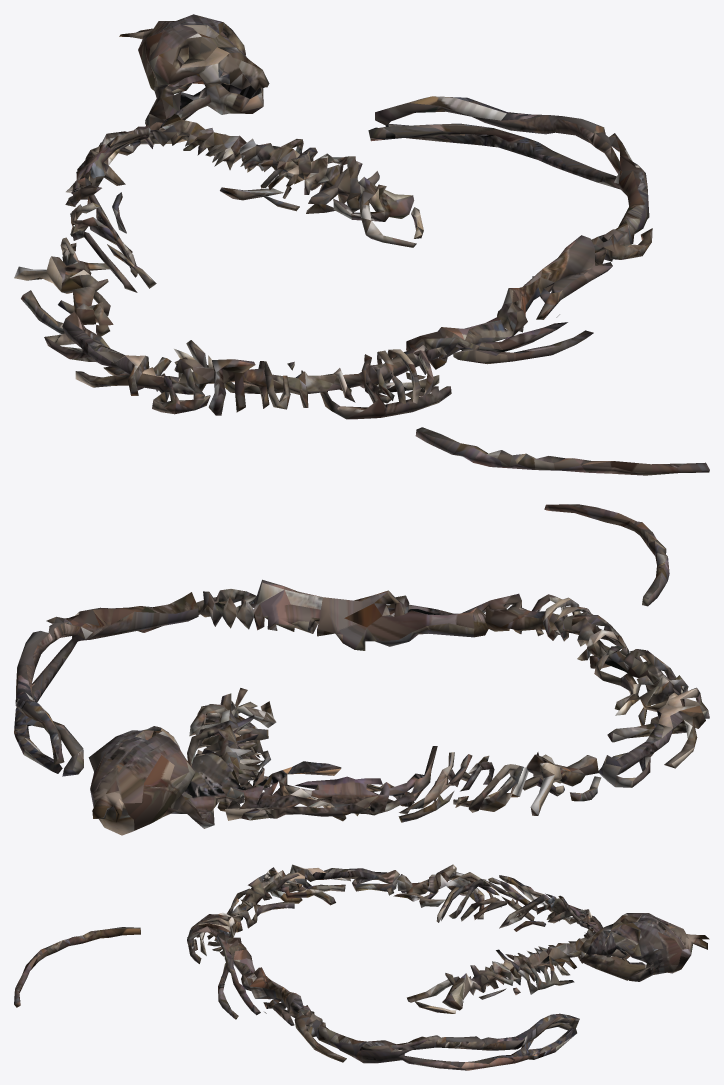
The model's file is Skelaton2.fbx.
The picture shows the model from 3 angles, top to bottom: view 1: azimuth 30°, elevation 25°; view 2: azimuth 150°, elevation 25°; view 3: azimuth 270°, elevation 25°; orthographic projection. The views are drawn at different scales.
Parts seen in each view (by area): view 1: Mesh1_Mesh1.020; view 2: Mesh1_Mesh1.020; view 3: Mesh1_Mesh1.020.
Part boxes in pixels (x1,y1,x2,y2): Mesh1_Mesh1.020: (14,14,709,475); Mesh1_Mesh1.020: (14,504,709,835); Mesh1_Mesh1.020: (14,864,709,1070).
Bounding box in the file's own units: 134 × 24.37 × 200.
